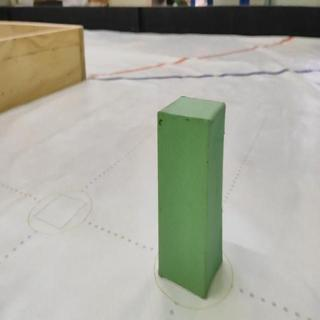greenbox: (155, 95, 227, 299)
